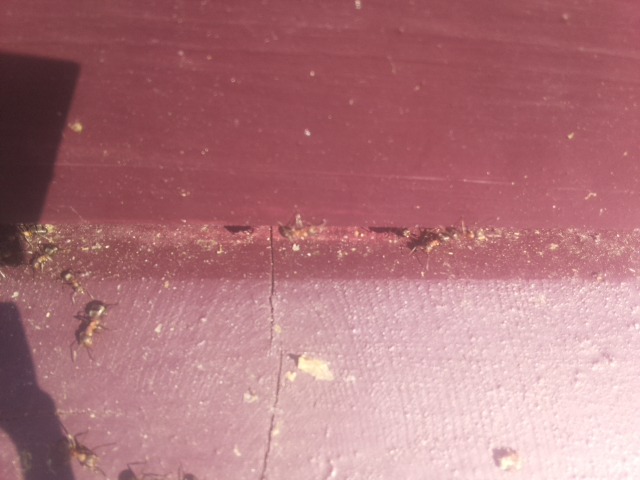ant: (70, 292, 115, 363), (55, 424, 106, 480), (59, 261, 87, 305), (30, 240, 60, 270)
